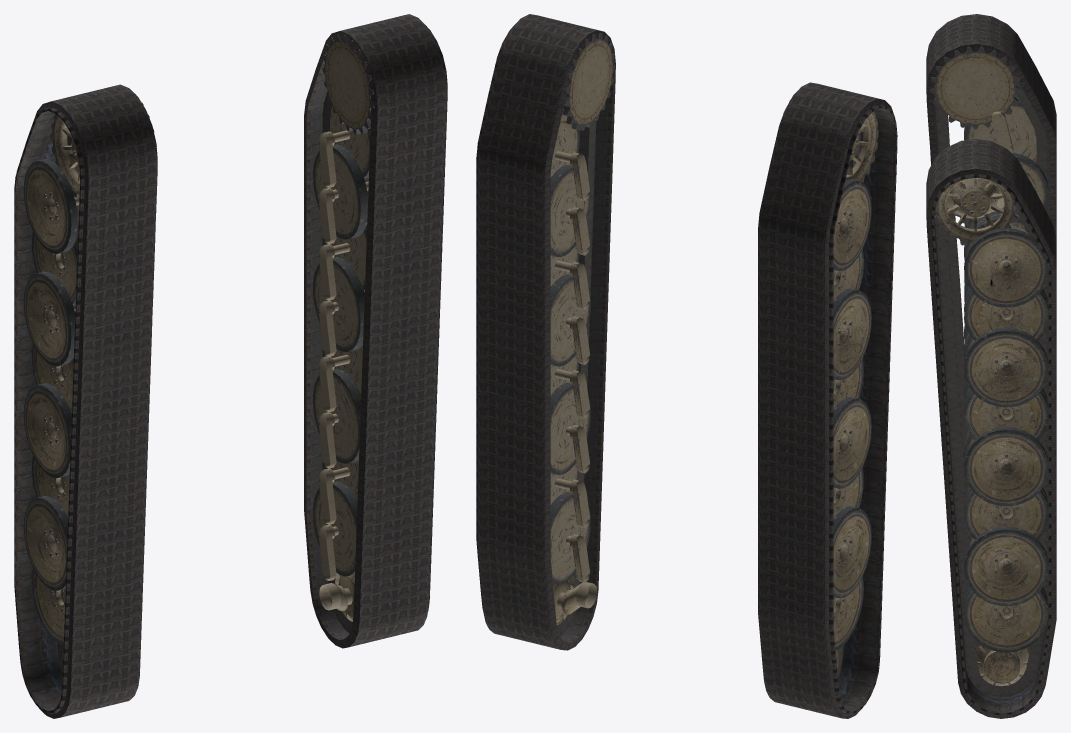
Rendered from Chassis.glb.
3 renders of one model, left to right at view 1: azimuth 30°, elevation 25°; view 2: azimuth 150°, elevation 25°; view 3: azimuth 270°, elevation 25°, orthographic. The views are drawn at different scales.
Parts seen in each view (by area): view 1: set_1_group_0, set_3_group_0, set_5_group_0, set_4_group_0, set_0_group_0, set_2_group_0; view 2: set_1_group_0, set_3_group_0, set_5_group_0, set_4_group_0, set_0_group_0, set_2_group_0; view 3: set_5_group_0, set_3_group_0, set_1_group_0, set_4_group_0, set_2_group_0, set_0_group_0.
Part boxes in pixels (left/top/right/bottom): set_1_group_0: left=14, top=84, right=157, bottom=718; set_3_group_0: left=304, top=14, right=447, bottom=648; set_5_group_0: left=313, top=34, right=374, bottom=621; set_4_group_0: left=23, top=94, right=156, bottom=659; set_0_group_0: left=72, top=224, right=155, bottom=405; set_2_group_0: left=361, top=205, right=443, bottom=388; set_1_group_0: left=758, top=82, right=897, bottom=718; set_3_group_0: left=476, top=14, right=615, bottom=650; set_5_group_0: left=550, top=33, right=615, bottom=624; set_4_group_0: left=783, top=99, right=878, bottom=668; set_0_group_0: left=859, top=195, right=895, bottom=368; set_2_group_0: left=578, top=184, right=611, bottom=354; set_5_group_0: left=934, top=177, right=1048, bottom=686; set_3_group_0: left=926, top=139, right=1056, bottom=718; set_1_group_0: left=926, top=14, right=1056, bottom=478; set_4_group_0: left=930, top=46, right=1048, bottom=481; set_2_group_0: left=933, top=297, right=963, bottom=472; set_0_group_0: left=930, top=130, right=959, bottom=289.
Size of the model in its own units: 3.55 by 5.74 by 1.23.
6 materials, 6 textured.
